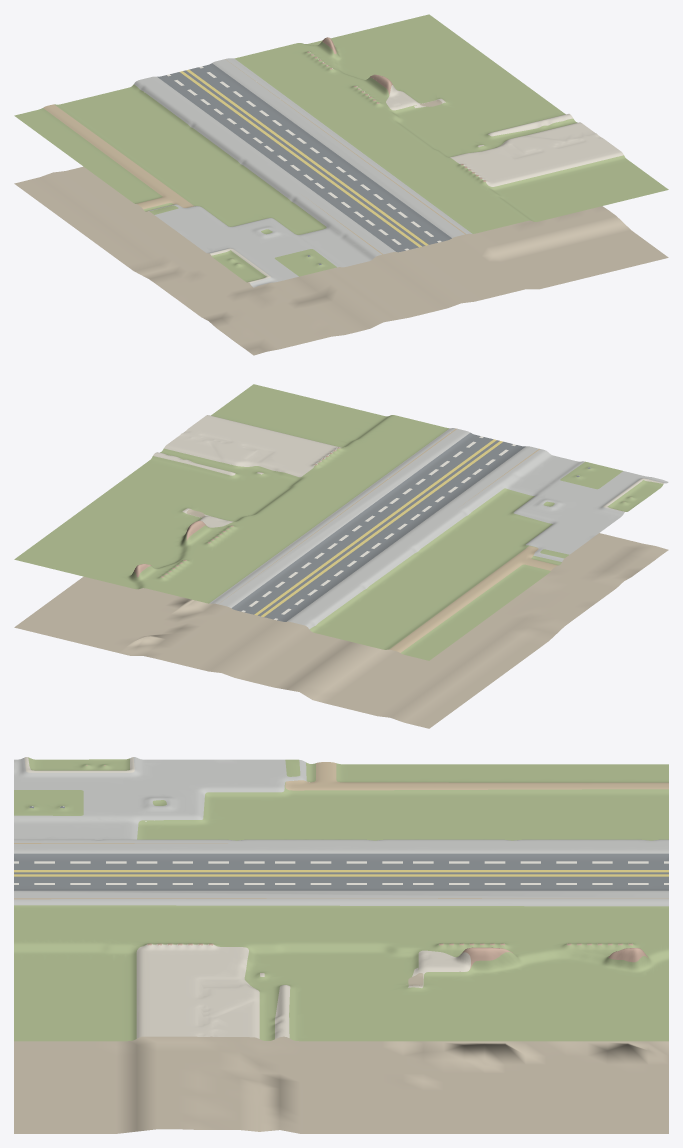
3 views of the same model, one above another, from view 1: azimuth 30°, elevation 25°; view 2: azimuth 150°, elevation 25°; view 3: azimuth 270°, elevation 25° (orthographic). The views are drawn at different scales.
Visible parts, largest first — view 1: s_-3_-1__grass, s_-3_-1__soil, s_-3_-1__stone_paving, s_-3_-1__asphalt, s_-3_-1__paving, s_-3_-1__timber_deck, s_-3_-1__yellow_marking, s_-3_-1__white_marking; view 2: s_-3_-1__grass, s_-3_-1__soil, s_-3_-1__stone_paving, s_-3_-1__asphalt, s_-3_-1__paving, s_-3_-1__timber_deck, s_-3_-1__yellow_marking, s_-3_-1__white_marking; view 3: s_-3_-1__grass, s_-3_-1__soil, s_-3_-1__stone_paving, s_-3_-1__asphalt, s_-3_-1__paving, s_-3_-1__timber_deck, s_-3_-1__yellow_marking, s_-3_-1__white_marking, s_-3_-1__brick_paving.
Part boxes in pixels (x1,y1,x2,y2): s_-3_-1__grass: (14, 14, 668, 282); s_-3_-1__soil: (14, 98, 668, 355); s_-3_-1__stone_paving: (134, 58, 472, 287); s_-3_-1__asphalt: (157, 63, 451, 264); s_-3_-1__paving: (210, 85, 623, 283); s_-3_-1__timber_deck: (43, 59, 465, 254); s_-3_-1__yellow_marking: (180, 69, 428, 247); s_-3_-1__white_marking: (167, 66, 441, 250); s_-3_-1__grass: (14, 384, 663, 660); s_-3_-1__soil: (14, 472, 668, 728); s_-3_-1__stone_paving: (209, 428, 668, 629); s_-3_-1__asphalt: (231, 432, 590, 621); s_-3_-1__paving: (153, 415, 664, 527); s_-3_-1__timber_deck: (219, 428, 557, 652); s_-3_-1__yellow_marking: (254, 439, 502, 616); s_-3_-1__white_marking: (241, 436, 515, 620); s_-3_-1__grass: (14, 757, 668, 1041); s_-3_-1__soil: (14, 943, 668, 1133); s_-3_-1__stone_paving: (14, 757, 668, 906); s_-3_-1__asphalt: (14, 806, 668, 890); s_-3_-1__paving: (24, 757, 470, 1038); s_-3_-1__timber_deck: (14, 762, 668, 899); s_-3_-1__yellow_marking: (14, 870, 668, 876); s_-3_-1__white_marking: (14, 861, 668, 884); s_-3_-1__brick_paving: (86, 765, 647, 968).
Bounding box in the file's own units: 128 × 23.96 × 128.
